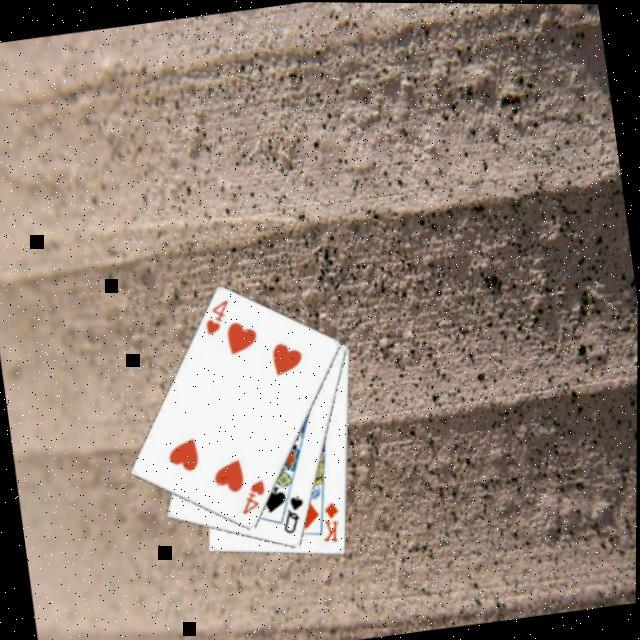4H: (233, 474, 270, 516), (197, 294, 234, 336)
KD: (314, 496, 344, 545)
QS: (275, 490, 309, 535)
